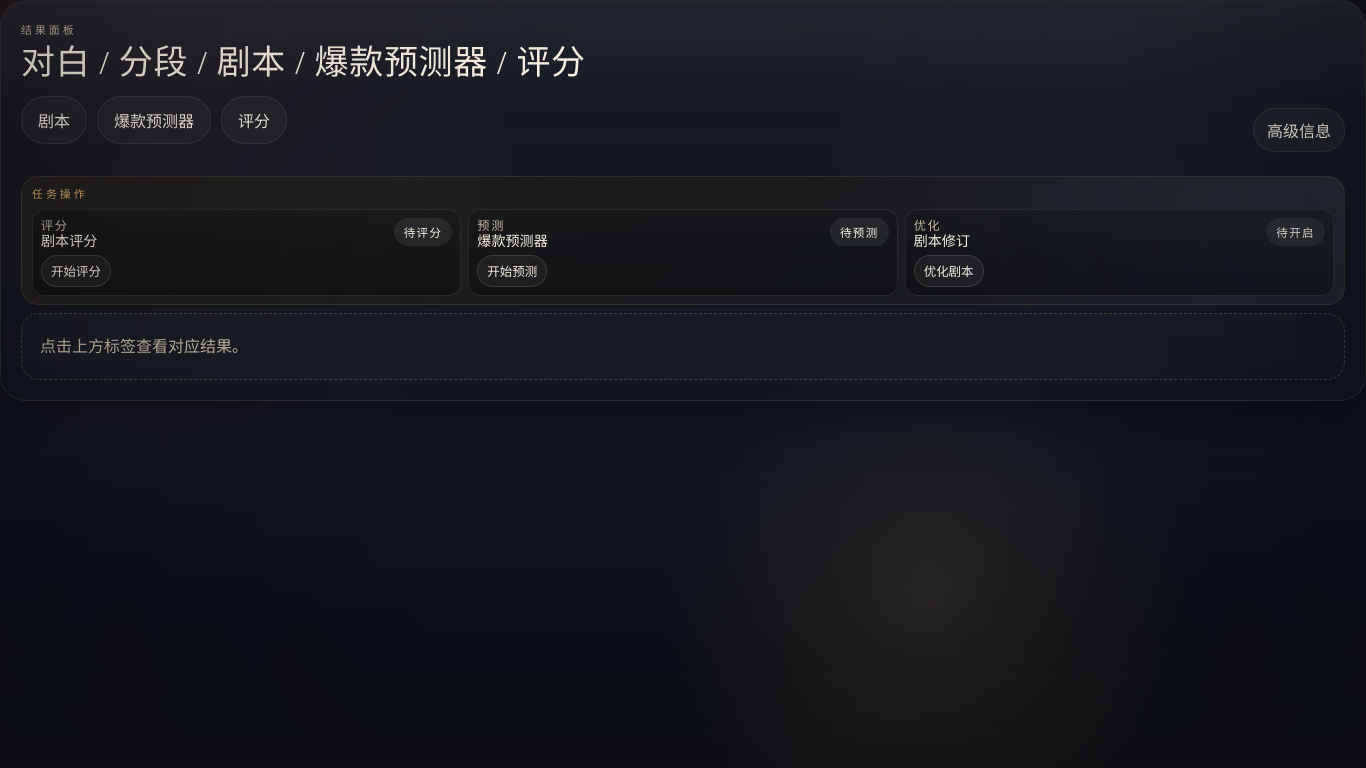
keeps raw result tabs behind advanced info until expanded
This screenshot has width=1366, height=768.
What coordinates should you click on to do the following:
click the button "高级信息"
I would click on:
 (1299, 130)
Its box is 1253,108 -> 1345,152.
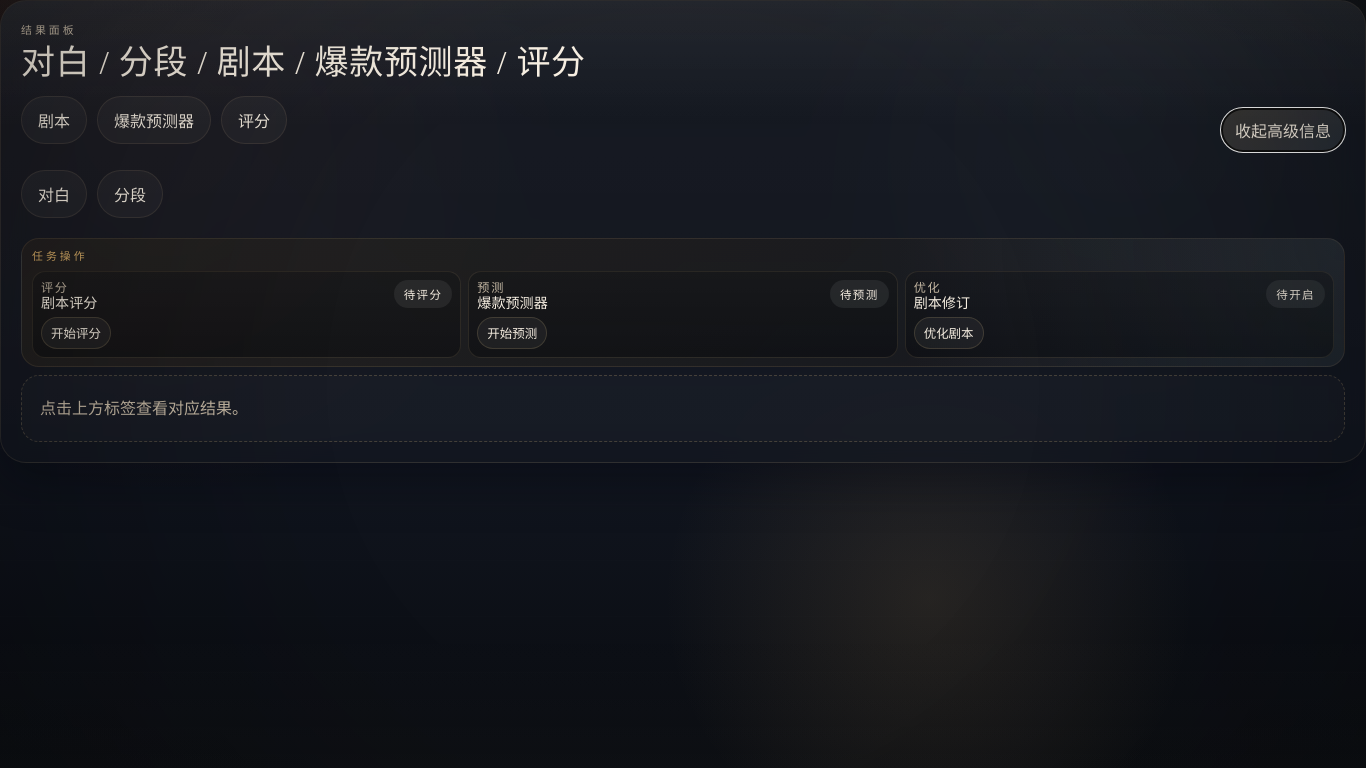
Expected: the tab "对白" is shown, 21,170 -> 87,218
Expected: the tab "分段" is shown, 97,170 -> 163,218
